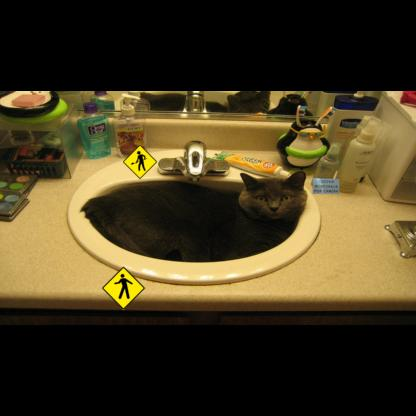A-24: (123, 145, 157, 179)
A-32a: (102, 266, 145, 310)
I-E: (313, 178, 339, 194)
